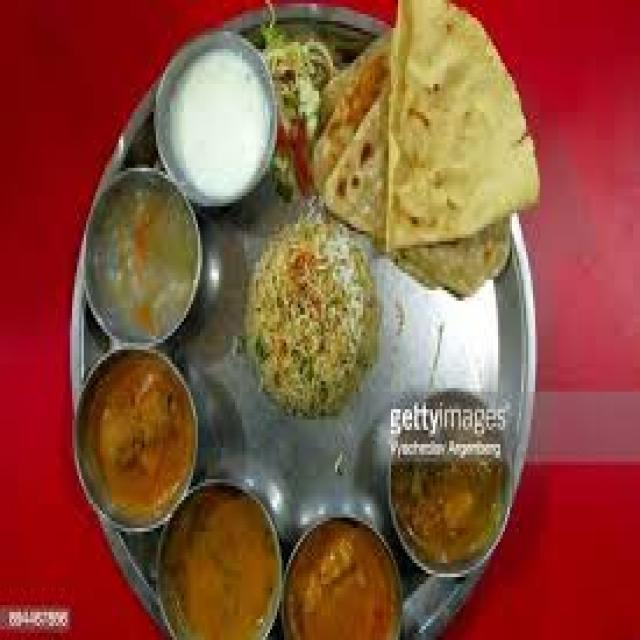curd: (149, 27, 288, 210)
dal: (243, 210, 372, 415)
papad: (358, 14, 537, 256)
rice: (239, 207, 380, 409)
roti: (314, 24, 535, 263)
